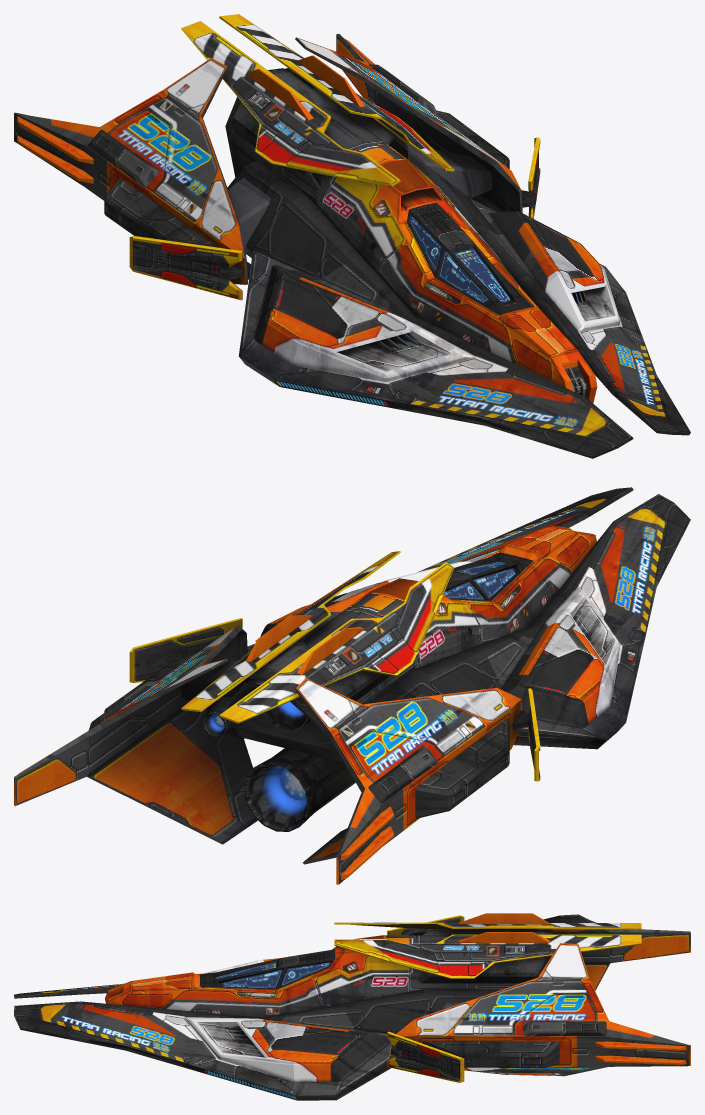
The model's file is SciFi-Racing Ship_01.FBX.
The picture shows the model from 3 angles, top to bottom: view 1: azimuth 30°, elevation 25°; view 2: azimuth 150°, elevation 25°; view 3: azimuth 270°, elevation 25°; orthographic projection. The views are drawn at different scales.
Parts seen in each view (by area): view 1: Race_Ship_01; view 2: Race_Ship_01; view 3: Race_Ship_01.
Part boxes in pixels (box(x1,y1,x2,y2)): Race_Ship_01: box(14, 14, 690, 458); Race_Ship_01: box(14, 487, 690, 884); Race_Ship_01: box(14, 913, 690, 1100).
Bounding box in the file's own units: 299 × 135 × 597.
